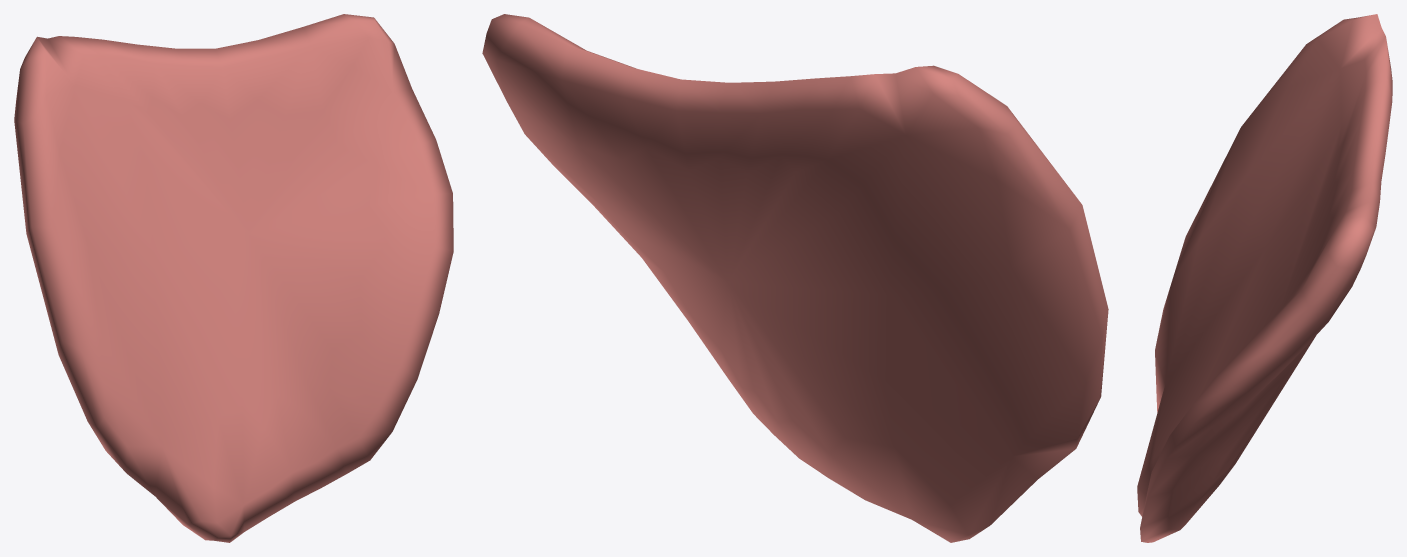
The picture shows the model from 3 angles, left to right: view 1: azimuth 30°, elevation 25°; view 2: azimuth 150°, elevation 25°; view 3: azimuth 270°, elevation 25°; orthographic projection. The views are drawn at different scales.
Visible parts, largest first — view 1: ZA_14e1a61fa7eac23b; view 2: ZA_14e1a61fa7eac23b; view 3: ZA_14e1a61fa7eac23b.
Boxes of the visible parts, x1=… form: ZA_14e1a61fa7eac23b: x1=14, y1=14, x2=453, y2=542; ZA_14e1a61fa7eac23b: x1=482, y1=14, x2=1108, y2=542; ZA_14e1a61fa7eac23b: x1=1137, y1=14, x2=1392, y2=542.
Bounding box in the file's own units: 0.00553 × 0.00573 × 0.00283.
